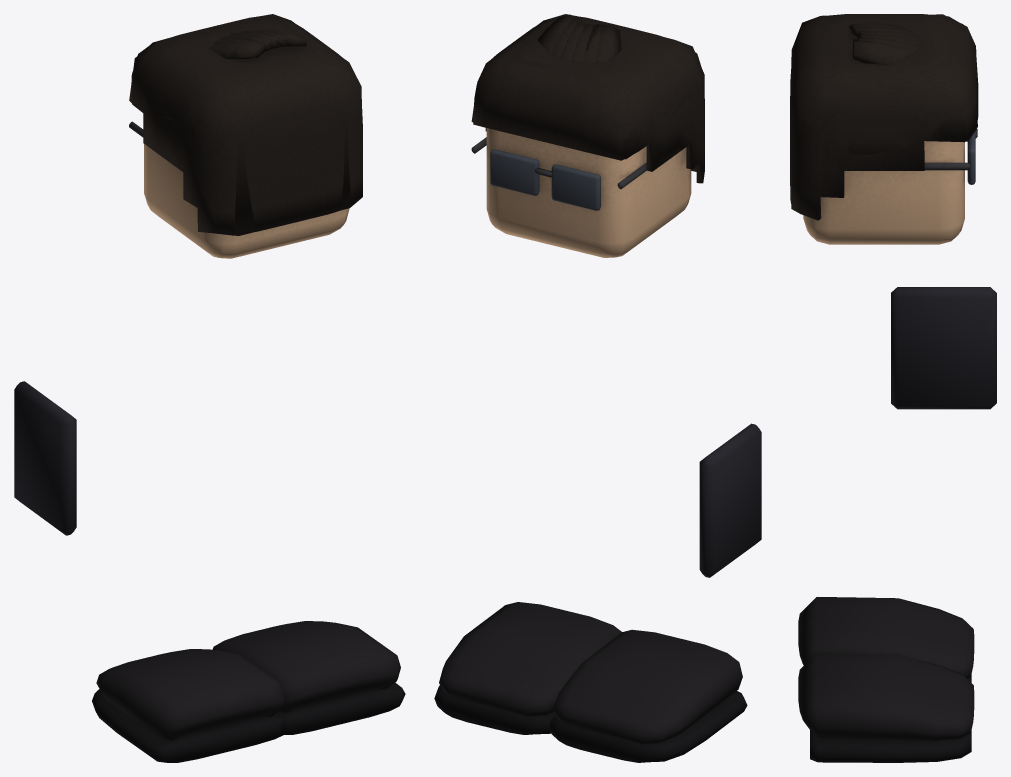
Rendered from Bloque_Oficio_Borja.fbx.
3 renders of one model, left to right at view 1: azimuth 30°, elevation 25°; view 2: azimuth 150°, elevation 25°; view 3: azimuth 270°, elevation 25°, orthographic.
Parts seen in each view (by area): view 1: Pelo, ZapatoL, ZapatoR, PeloLOD, Carpeta, CabezaBloque; view 2: Pelo, ZapatoL, ZapatoR, CabezaBloque, Carpeta, PeloLOD, GafasSol; view 3: Pelo, ZapatoR, Carpeta, CabezaBloque, ZapatoL, PeloLOD, GafasSol.
Part boxes in pixels (box(x1,y1,x2,y2)): Pelo: box(131, 15, 362, 235); ZapatoL: box(92, 649, 288, 762); ZapatoR: box(212, 621, 405, 734); PeloLOD: box(129, 14, 361, 235); Carpeta: box(14, 381, 76, 535); CabezaBloque: box(144, 144, 349, 258); Pelo: box(473, 14, 704, 183); ZapatoL: box(550, 629, 747, 762); ZapatoR: box(434, 602, 621, 734); CabezaBloque: box(486, 128, 691, 257); Carpeta: box(699, 423, 761, 577); PeloLOD: box(471, 14, 704, 177); GafasSol: box(471, 137, 646, 210); Pelo: box(790, 14, 978, 220); ZapatoR: box(798, 653, 974, 762); Carpeta: box(891, 287, 996, 409); CabezaBloque: box(803, 141, 964, 244); ZapatoL: box(798, 597, 974, 682); PeloLOD: box(791, 14, 977, 212); GafasSol: box(924, 128, 977, 184).
Bounding box in the file's own units: 268 × 566 × 156.
